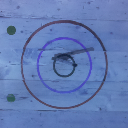Axe Tip: (57, 57, 70, 61)
